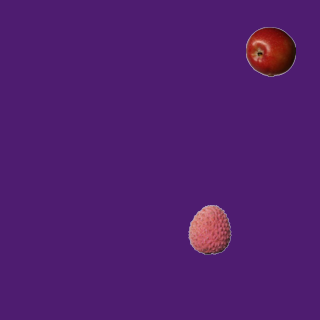Apple Braeburn: (245, 26, 295, 76)
Lychee: (184, 204, 234, 254)
